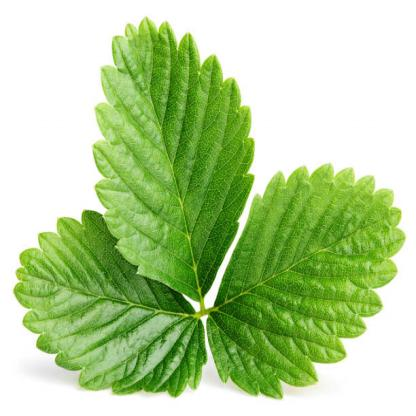Strawberry leaf: (207, 156, 415, 403), (90, 13, 259, 308), (12, 185, 205, 399)
